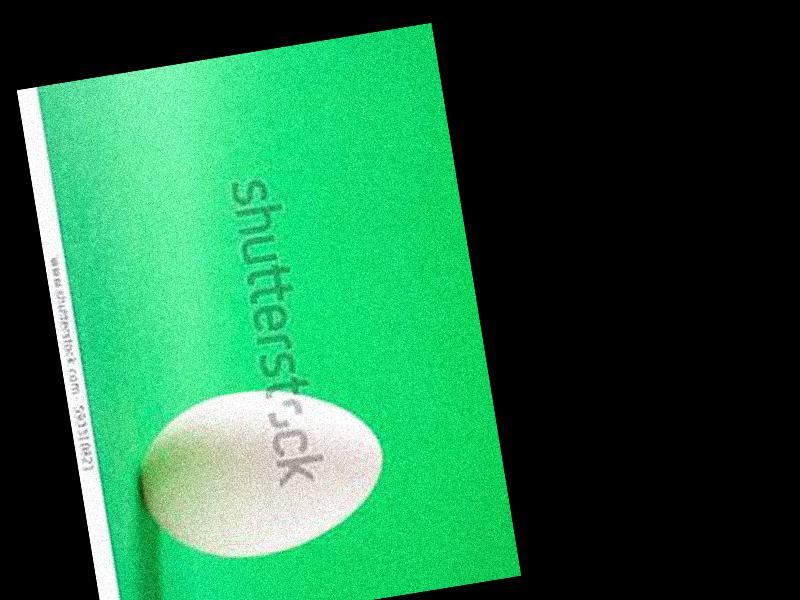Eggs: (125, 372, 394, 574)
